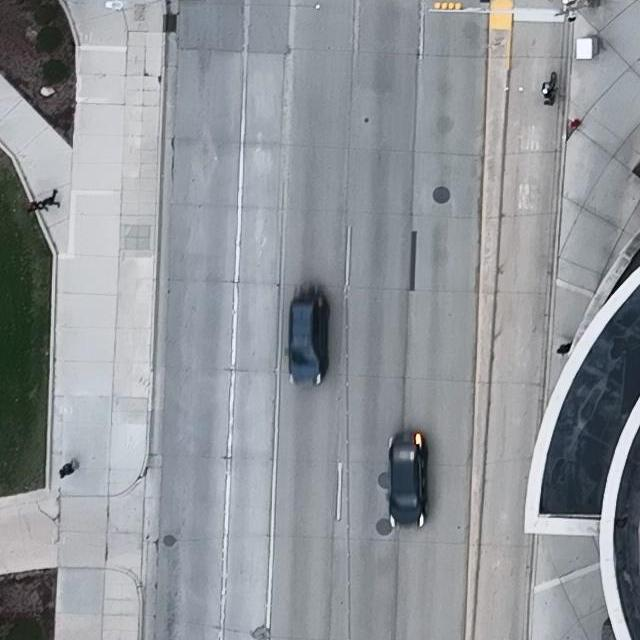car: (385, 432, 430, 529), (286, 293, 328, 387)
